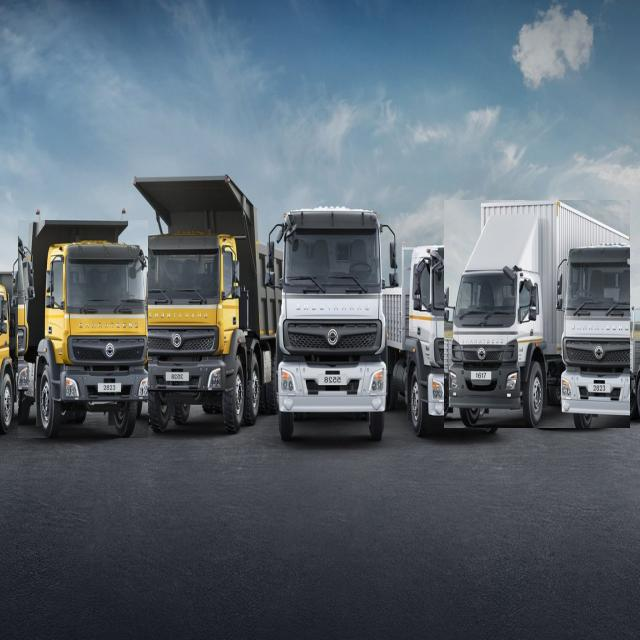truck: (444, 200, 630, 428), (134, 176, 275, 432), (258, 207, 398, 440), (18, 220, 148, 438), (382, 245, 515, 436)
